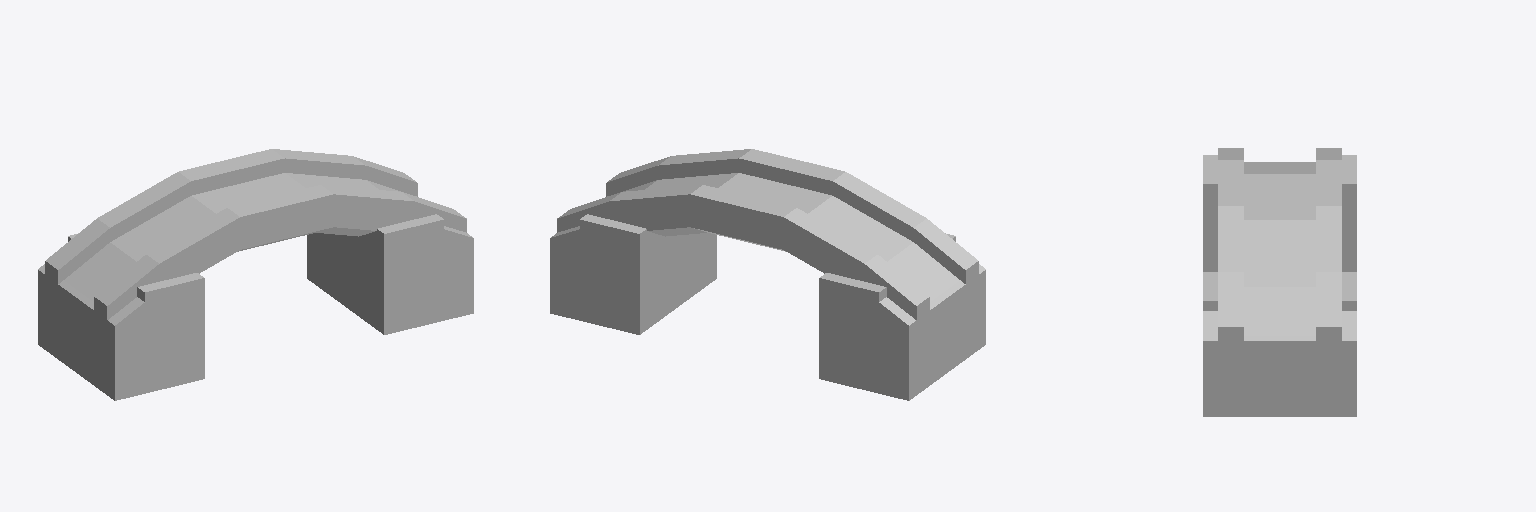
The model's file is bridge.obj.
The picture shows the model from 3 angles: view 1: azimuth 30°, elevation 25°; view 2: azimuth 150°, elevation 25°; view 3: azimuth 270°, elevation 25°; orthographic projection.
Parts seen in each view (by area): view 1: bridge_Cylinder.791; view 2: bridge_Cylinder.791; view 3: bridge_Cylinder.791.
Boxes of the visible parts, x1=… form: bridge_Cylinder.791: x1=38, y1=149, x2=473, y2=400; bridge_Cylinder.791: x1=550, y1=149, x2=985, y2=400; bridge_Cylinder.791: x1=1203, y1=148, x2=1356, y2=416.
Bounding box in the file's own units: 2 × 0.7769 × 0.7438.